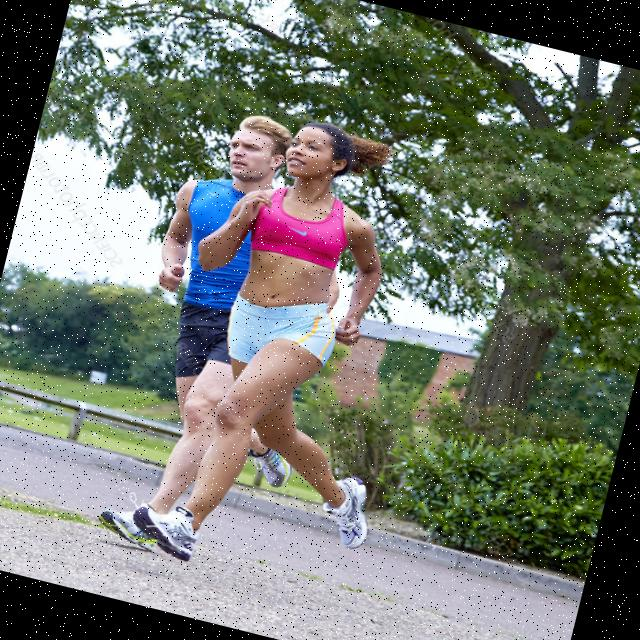Person: (120, 98, 462, 609), (85, 98, 374, 582)
